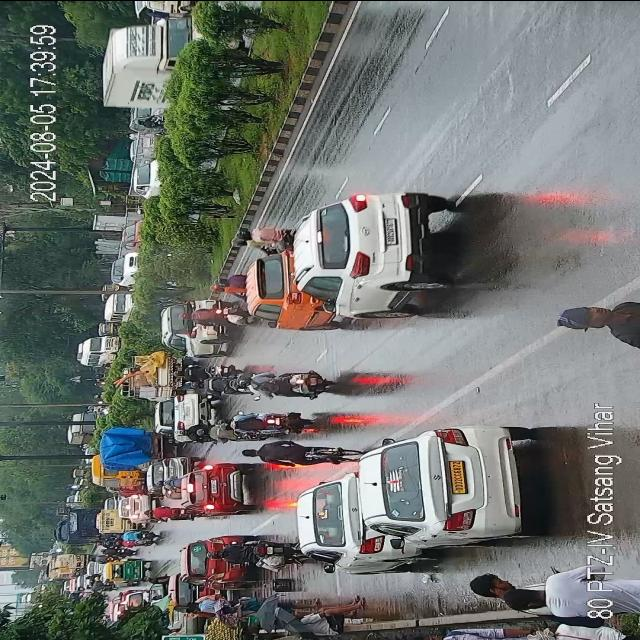2-wheelers: (233, 364, 332, 398), (226, 409, 314, 437), (208, 537, 280, 569), (240, 442, 344, 462), (178, 297, 240, 327), (242, 220, 292, 250), (176, 362, 238, 378), (145, 504, 189, 521), (120, 530, 160, 548), (102, 548, 136, 554)
auto: (105, 556, 147, 582), (98, 510, 132, 534), (96, 319, 124, 337)
bus: (91, 454, 146, 486), (76, 334, 122, 366)
car: (298, 180, 448, 318), (370, 428, 530, 552), (296, 474, 402, 568), (250, 246, 334, 334), (189, 460, 253, 514), (157, 388, 205, 443), (108, 252, 142, 286), (132, 162, 164, 198), (103, 290, 137, 320), (118, 491, 153, 518), (122, 218, 146, 250)
pedestrian: (464, 568, 600, 620), (272, 594, 370, 640), (409, 622, 570, 640), (185, 594, 252, 614), (133, 569, 172, 585)
truck: (104, 12, 196, 120), (118, 350, 187, 402), (101, 426, 168, 468), (57, 504, 98, 546), (64, 408, 110, 444)
